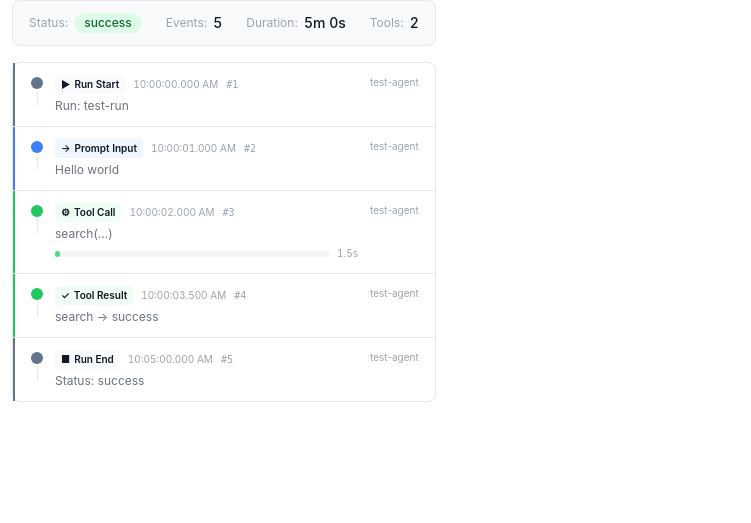
Test: ReplayTimelineView › toggles selection when clicking the same entry twice
The image size is (751, 523).
// Click to open
Click the button "▶ Run Start 10:00:00.000 AM #1 Run: test-run test-agent". click: (90, 84)
box: [13, 63, 435, 126]
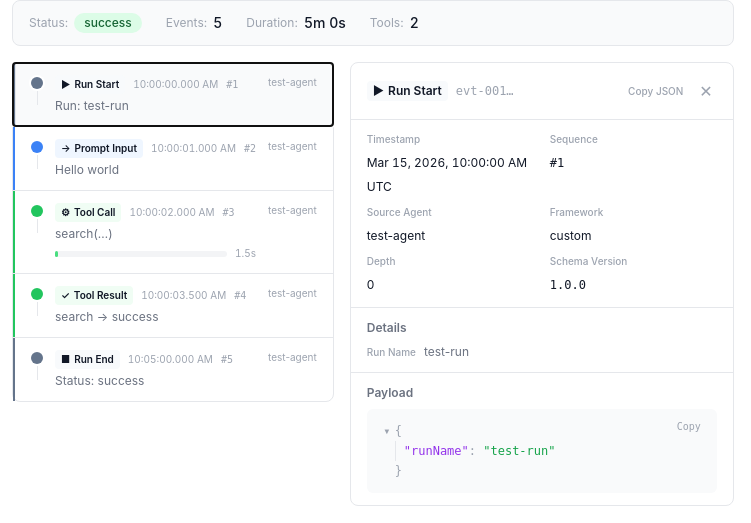
// Click same entry to close
Click the button "▶ Run Start 10:00:00.000 AM #1 Run: test-run test-agent". click: (90, 84)
box: [13, 63, 333, 126]
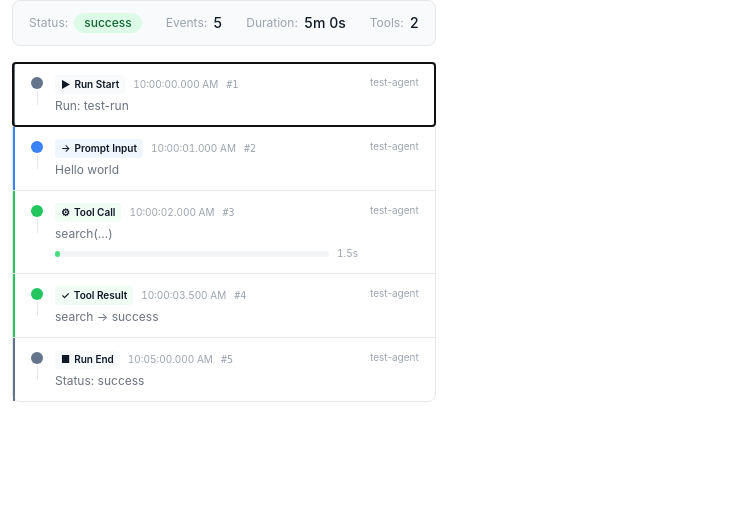
Expected: the text "Payload" is gone
